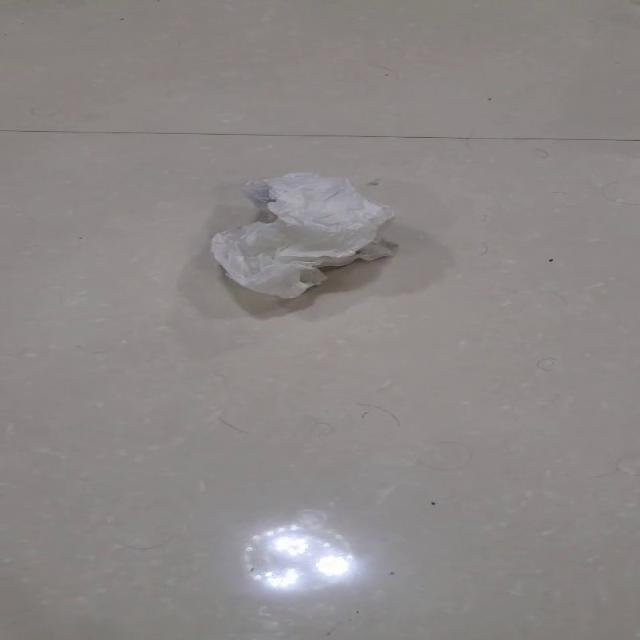plastic: (209, 171, 396, 299)
